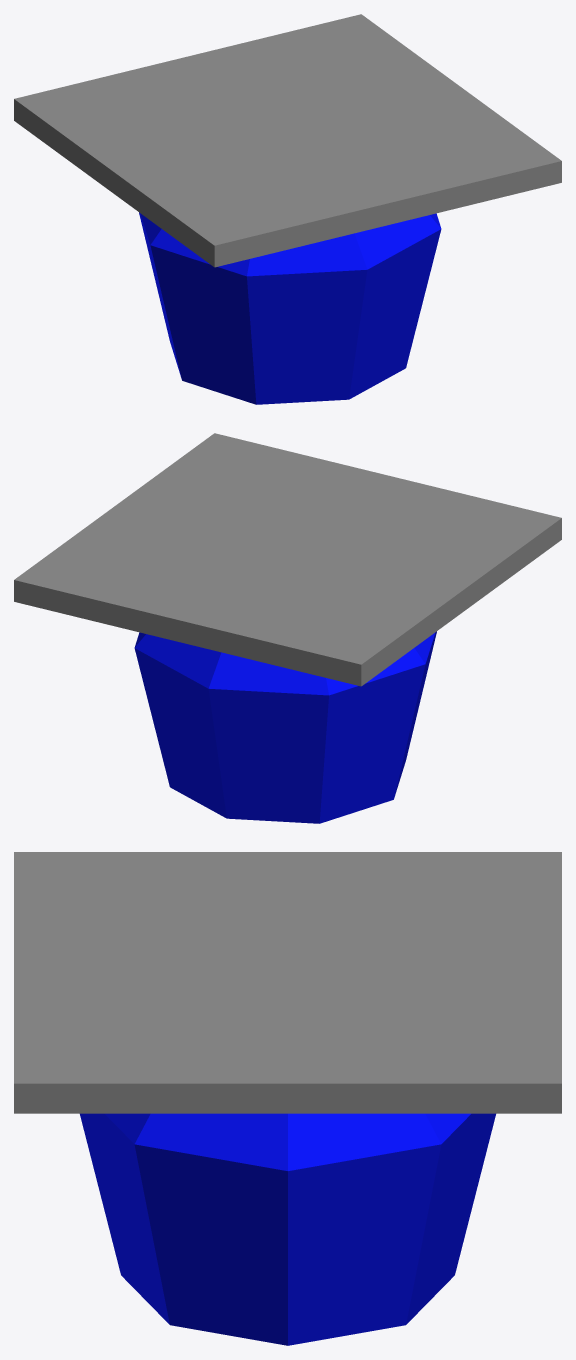
The model's file is Light_Blue.fbx.
3 views of the same model, one above another, from view 1: azimuth 30°, elevation 25°; view 2: azimuth 150°, elevation 25°; view 3: azimuth 270°, elevation 25° (orthographic). The views are drawn at different scales.
Visible parts, largest first — view 1: Blue_Light; view 2: Blue_Light; view 3: Blue_Light.
Boxes of the visible parts, <box> form: Blue_Light: <box>14,14,561,404</box>; Blue_Light: <box>14,433,561,823</box>; Blue_Light: <box>14,852,561,1345</box>.
Size of the model in its own units: 200 by 124 by 200.
